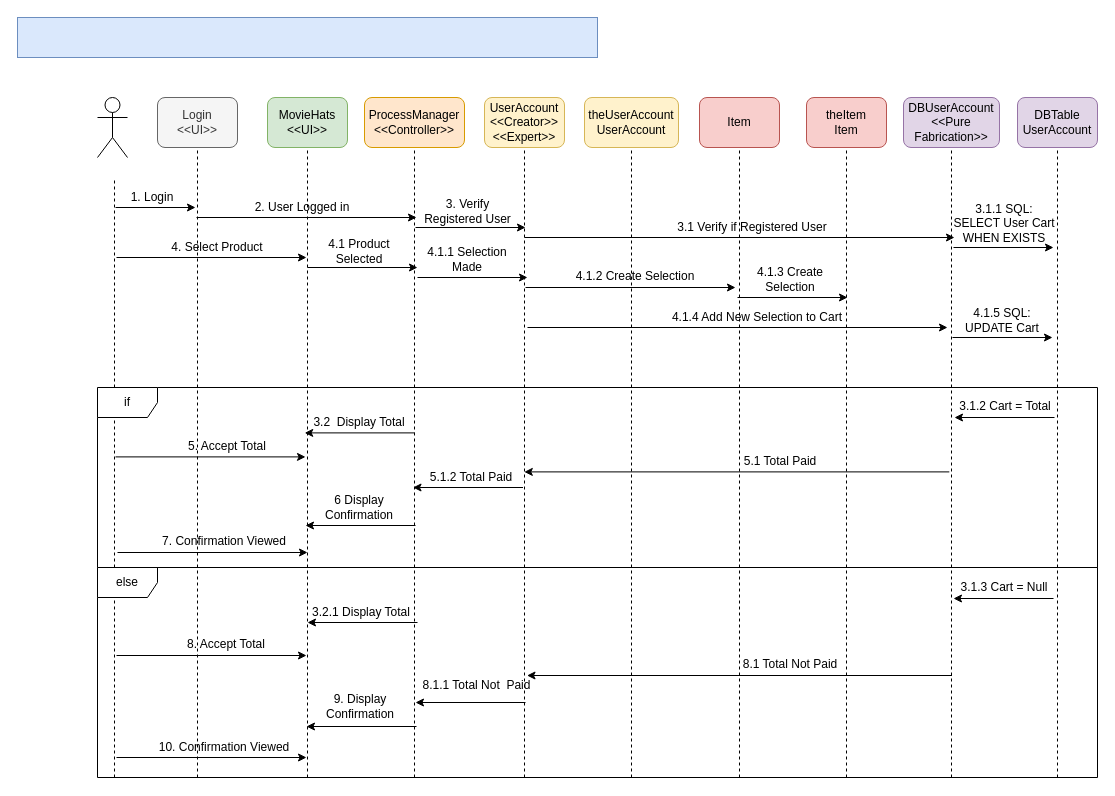
Image size: 1115x796. Some labels were removed from this diagram. The centre of each missing label's shape, as x and y in pixels:
"MovieHats Sequence Diagram Designed by Rory Cleary 08/08/21" goes at (x=307, y=37).
"User" goes at (x=112, y=127).
